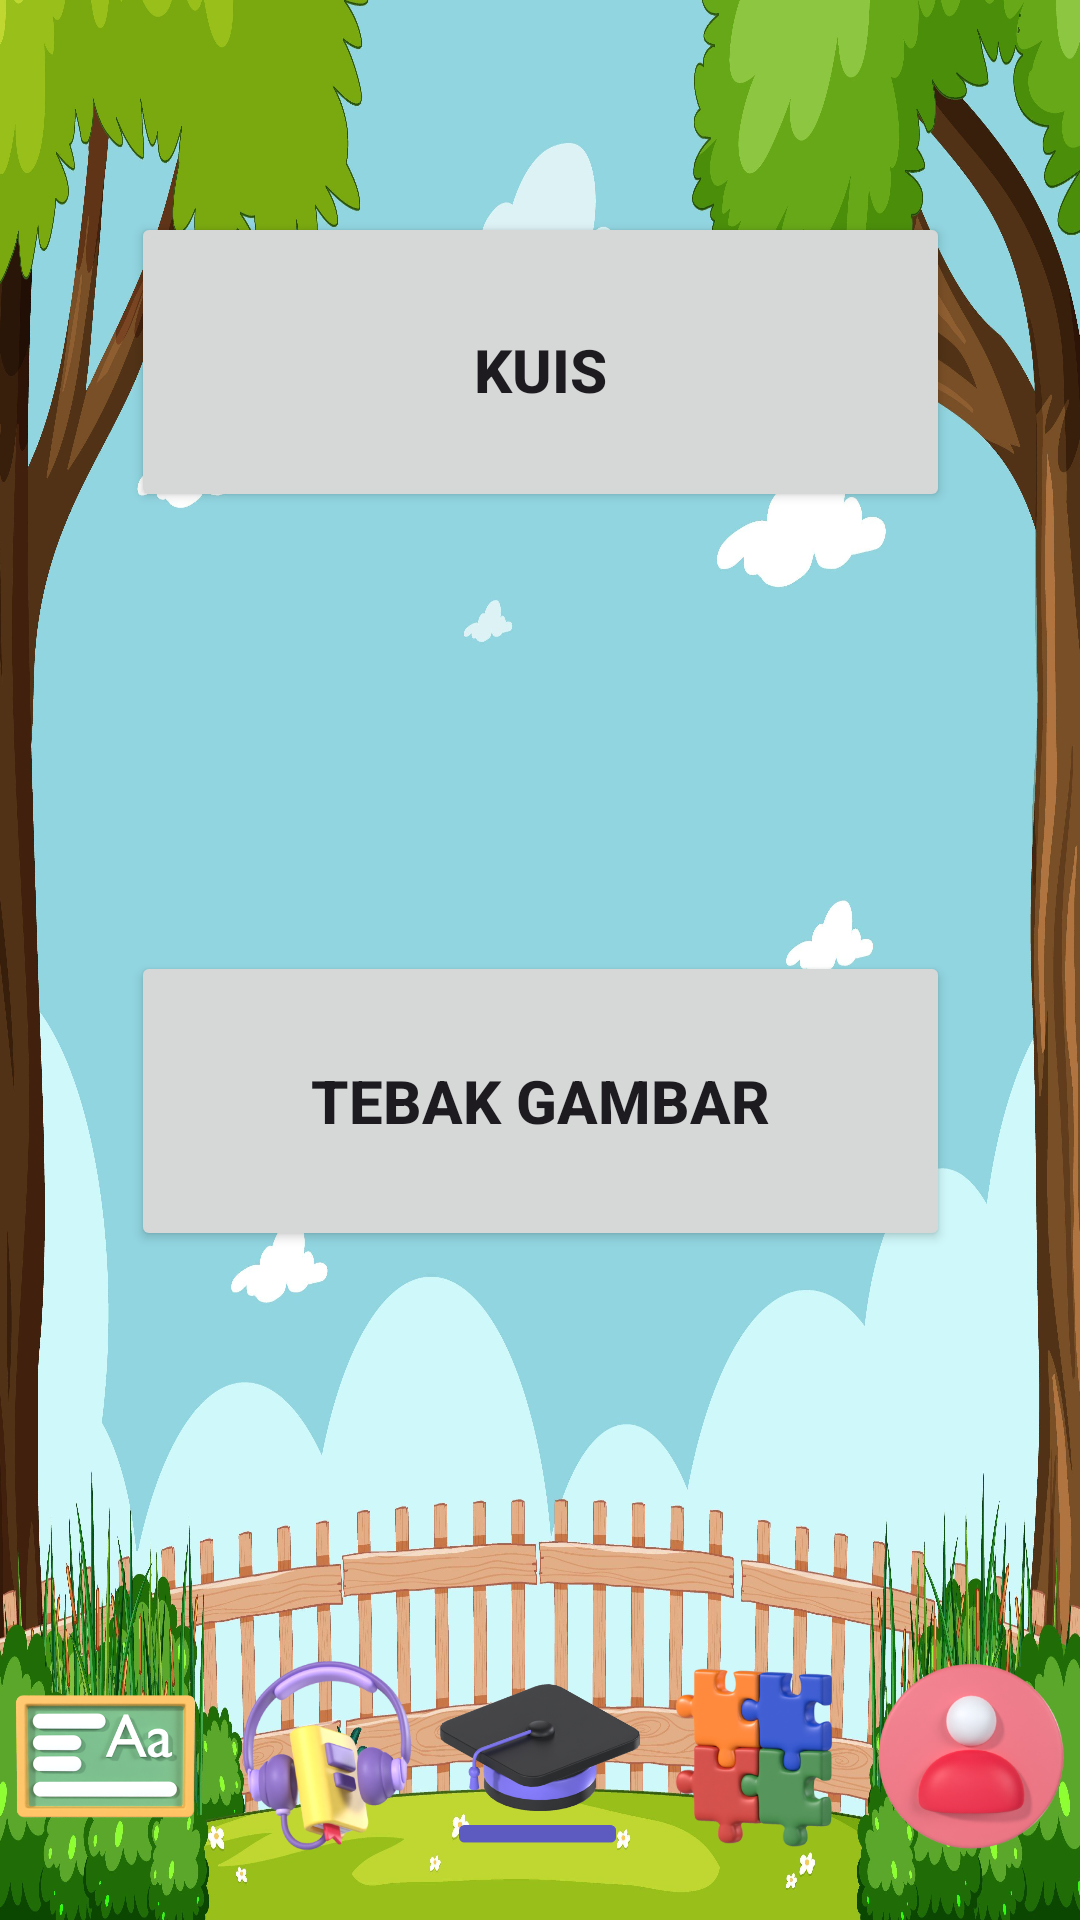

Named icons in this screenshot (1080x1920) and their centers, point (x, y):
bukue: point (324, 1755)
game: point (756, 1755)
kuiss: point (540, 1755)
materi: point (108, 1755)
profil: point (972, 1755)
